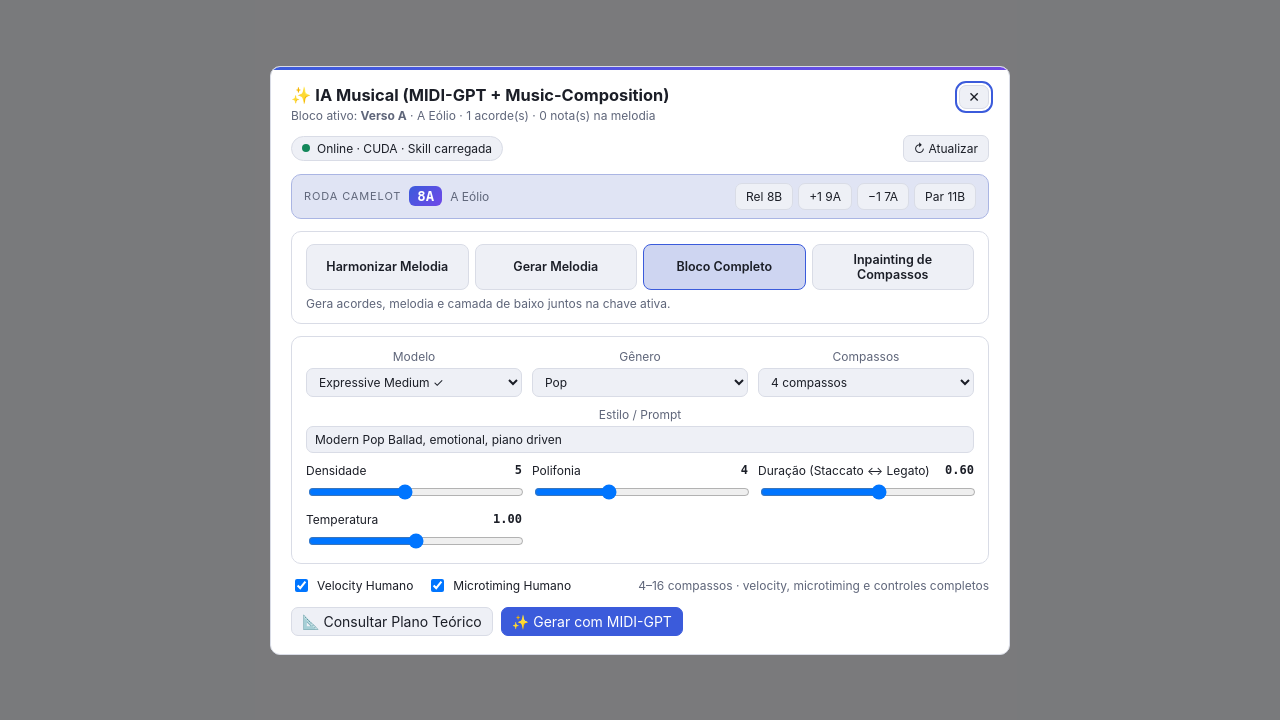
Test: AIPanel & integração com Header/TopBar/Store › exibe fallback de erro amigável se o endpoint retornar HTTP 500
Check: the text "Online · CUDA · Skill carregada" is shown, box [291,136,503,160]
Click the button "✨ Gerar com MIDI-GPT". click: (592, 621)
box: [501,606,683,636]
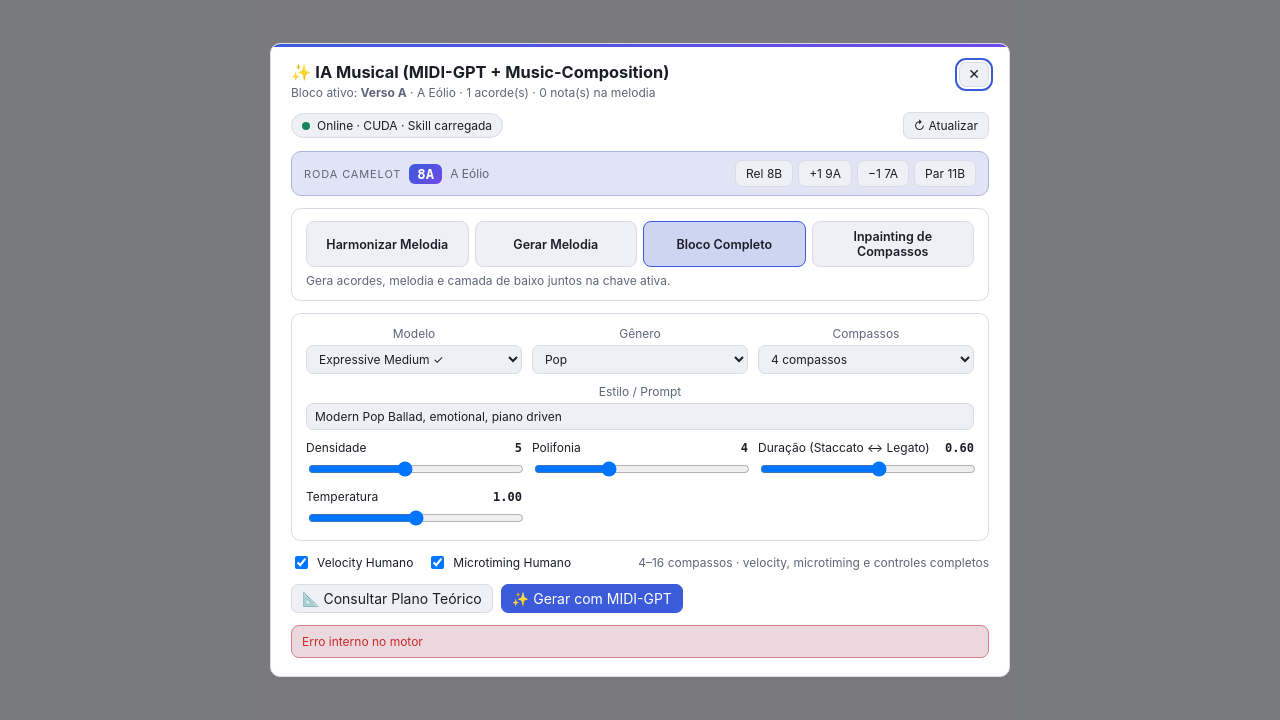
Check: the message reads "Erro interno no motor", box [302,634,423,649]
